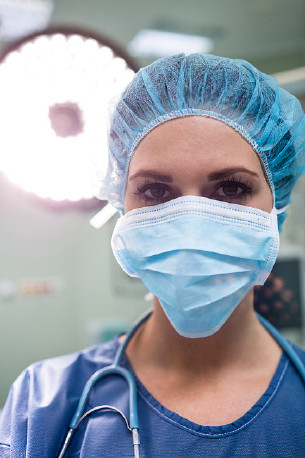face_mask: (125, 108, 274, 339)
